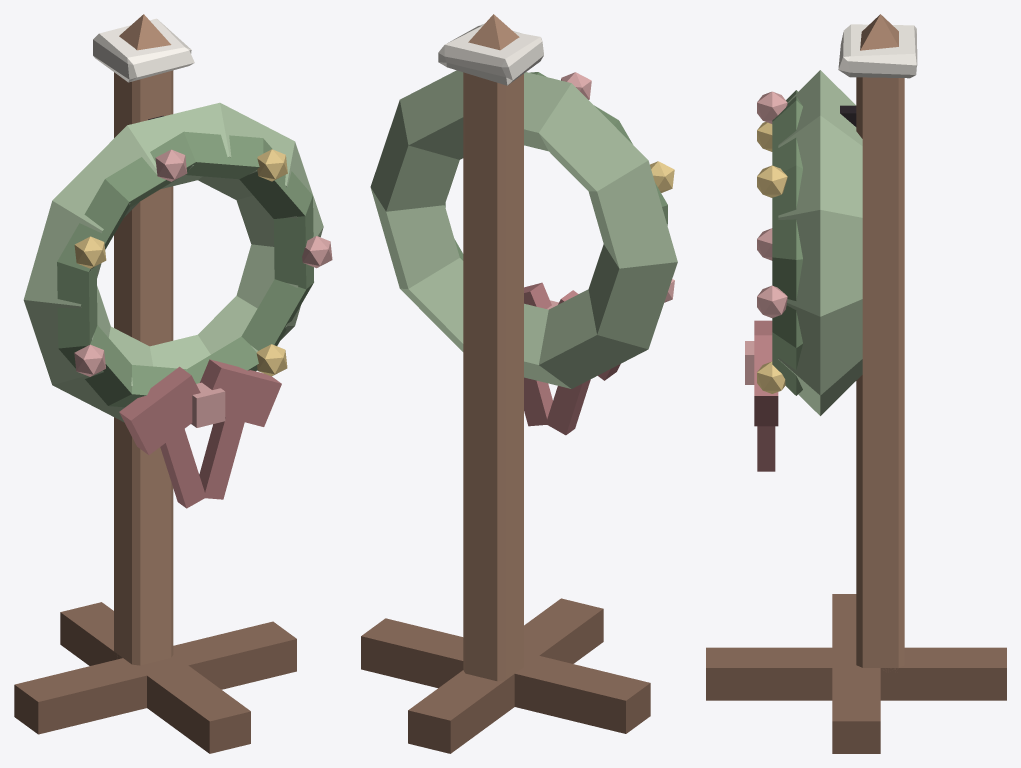
Rendered from sb_wreath_stand.glb.
The picture shows the model from 3 angles, left to right: view 1: azimuth 30°, elevation 25°; view 2: azimuth 150°, elevation 25°; view 3: azimuth 270°, elevation 25°; orthographic projection. The views are drawn at different scales.
Parts seen in each view (by area): view 1: wreath_stand; view 2: wreath_stand; view 3: wreath_stand.
Part boxes in pixels (x1,y1,x2,y2): wreath_stand: (14, 14, 332, 753); wreath_stand: (361, 14, 677, 753); wreath_stand: (706, 14, 1006, 753).
Size of the model in its own units: 0.58 by 1.24 by 0.5.
